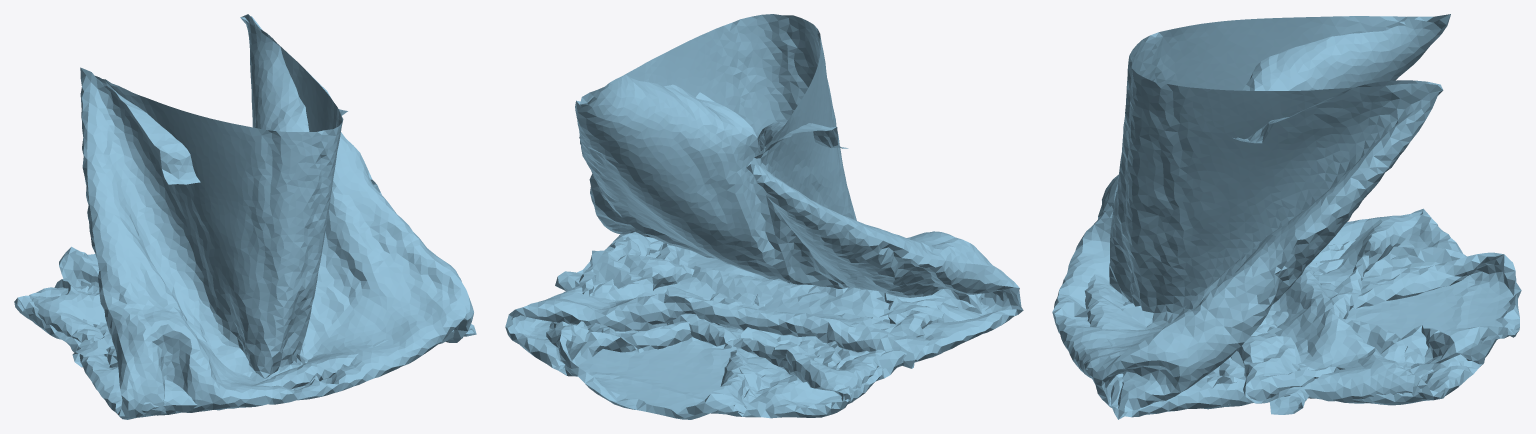
Rendered from frame_17.glb.
3 renders of one model, left to right at view 1: azimuth 30°, elevation 25°; view 2: azimuth 150°, elevation 25°; view 3: azimuth 270°, elevation 25°, orthographic. The views are drawn at different scales.
Visible parts, largest first — view 1: frame_17.obj; view 2: frame_17.obj; view 3: frame_17.obj.
Boxes of the visible parts, bbox=[...] form: frame_17.obj: bbox=[14, 14, 476, 419]; frame_17.obj: bbox=[505, 14, 1023, 419]; frame_17.obj: bbox=[1052, 14, 1521, 419].
Bounding box in the file's own units: 0.9312 × 0.6073 × 0.8996.
